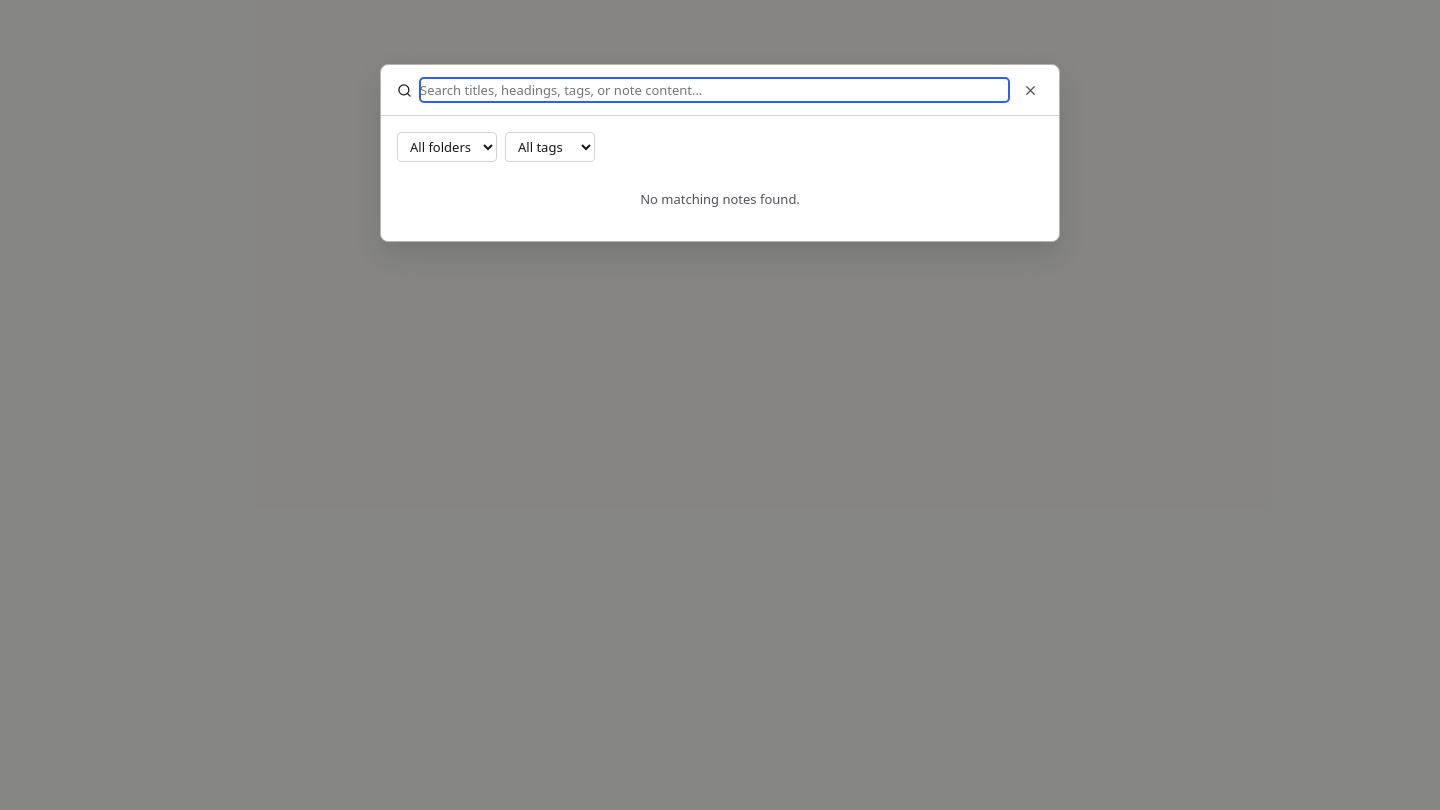
it: SearchPanel FTS5 query, filters, pagination, and keyboard nav › queries searchVaultNotes with folder/tag filters, supports cursor pagination, and navigates via keyboard
The width and height of the screenshot is (1440, 810).
Later steps or results of the test are not shown.
Select "work" in the dropdown named "Filter by folder" at [447, 147], box [397, 132, 497, 162]
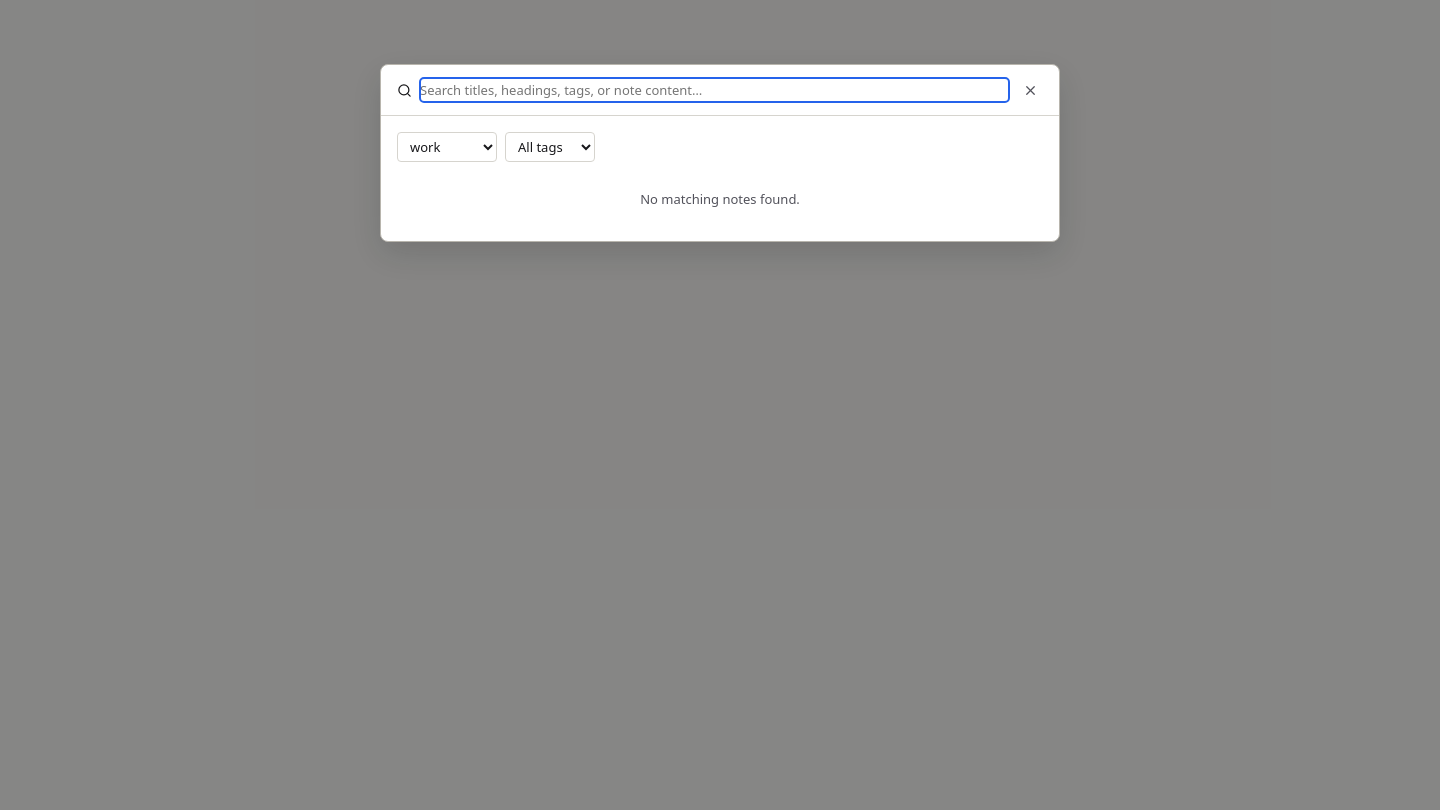
Select "#arch" in the dropdown named "Filter by tag" at [550, 147], box [505, 132, 595, 162]
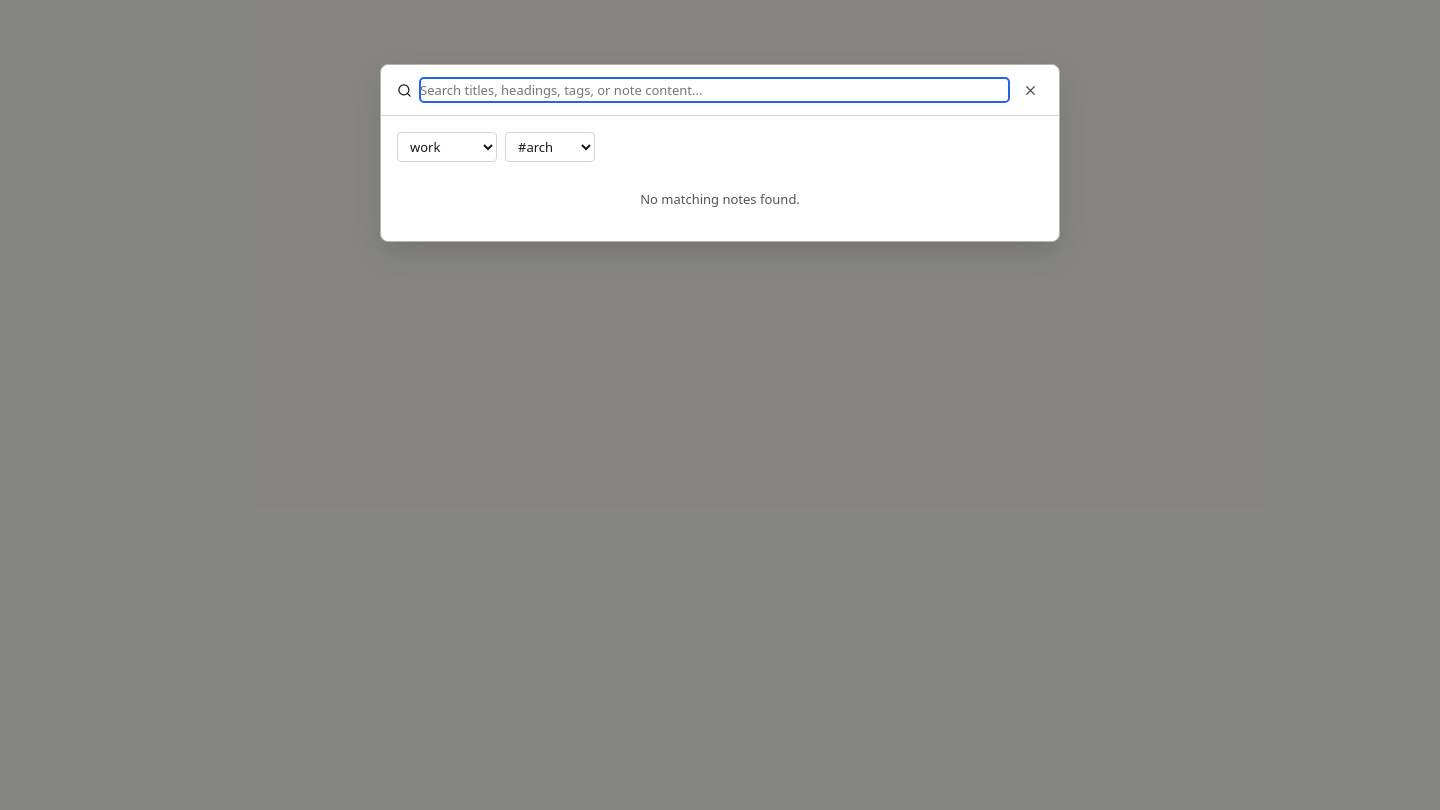
Type "architecture" into the field named "Search query".
click(714, 90); type("architecture")  # box [420, 78, 1009, 102]
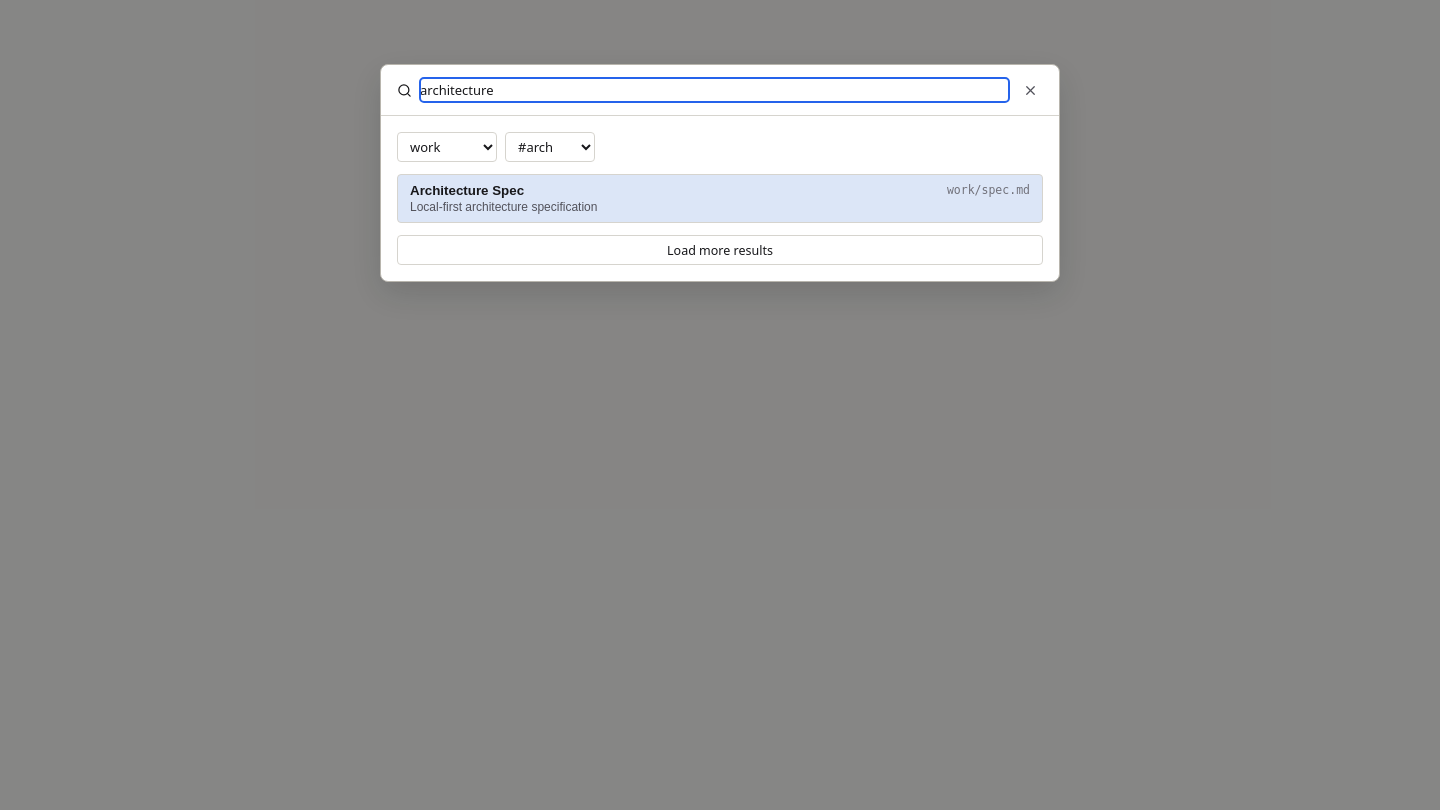
Expected: the text "Architecture Spec" is shown, [410, 183, 524, 198]
Click the button "Load more results".
click(720, 250)  # box [397, 235, 1043, 265]
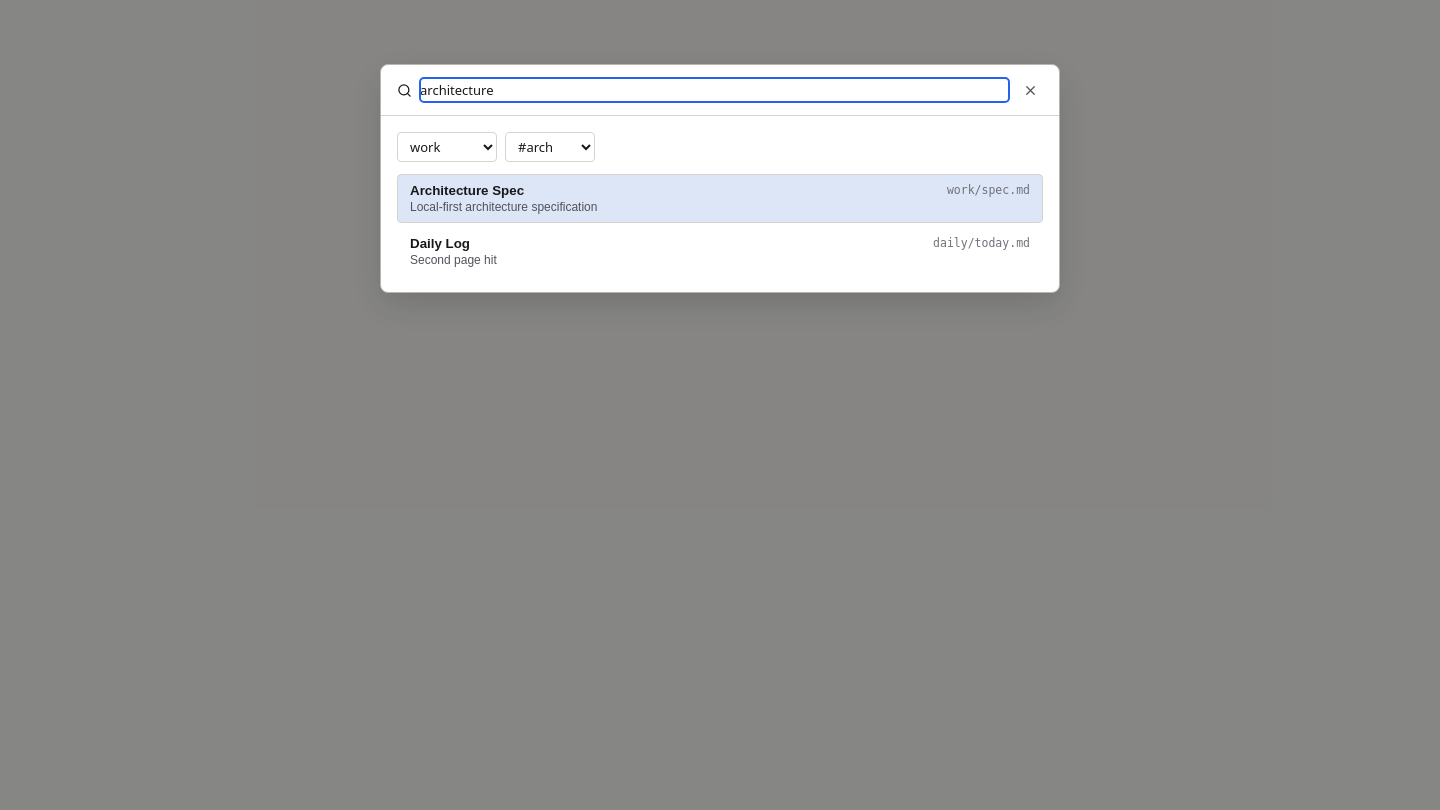
Expected: the text "Daily Log" is shown, [410, 236, 470, 251]
